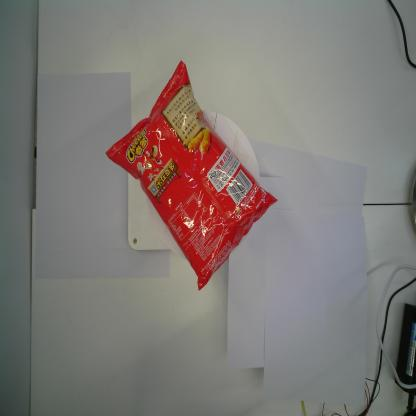Puffed Food: (103, 59, 278, 292)
